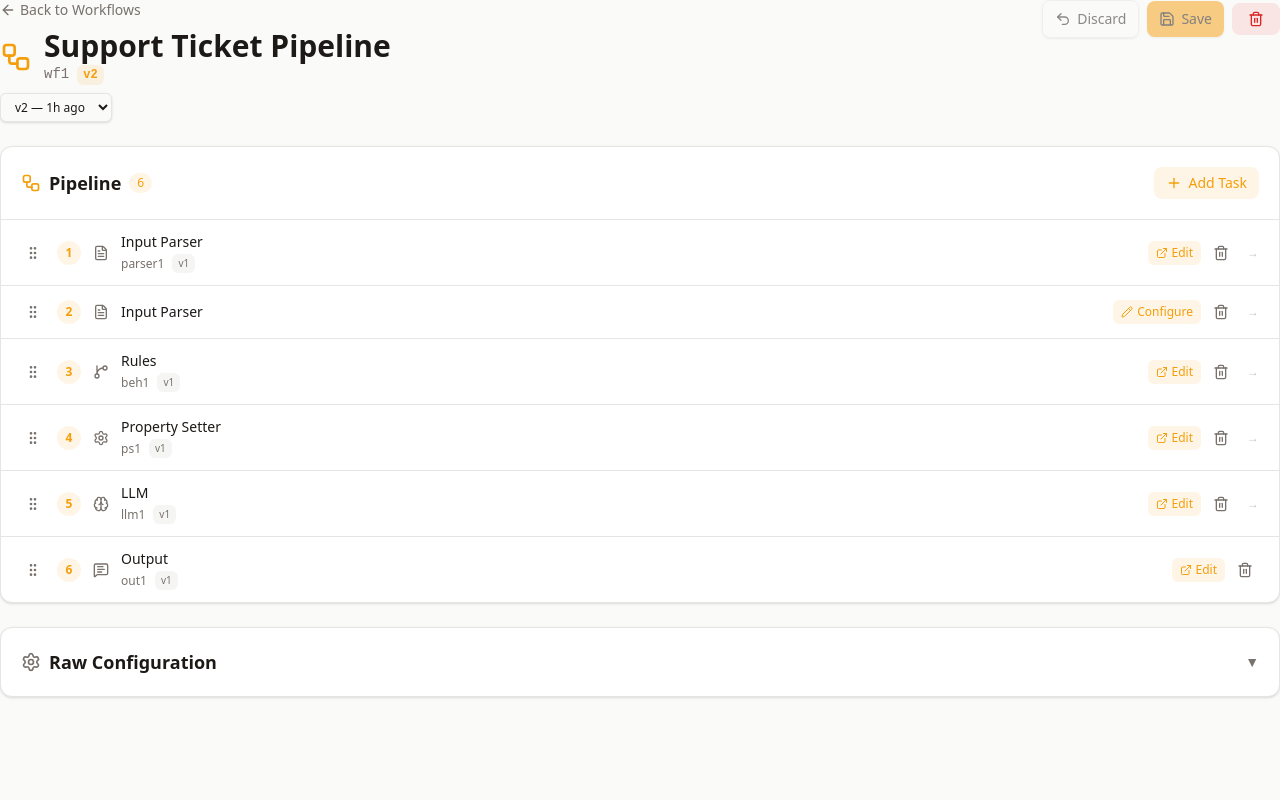
Test: WorkflowDetailPage › opens delete confirmation dialog
Click the button with test id "delete-wf-btn" at (1256, 19), box left=1232, top=3, right=1279, bottom=35
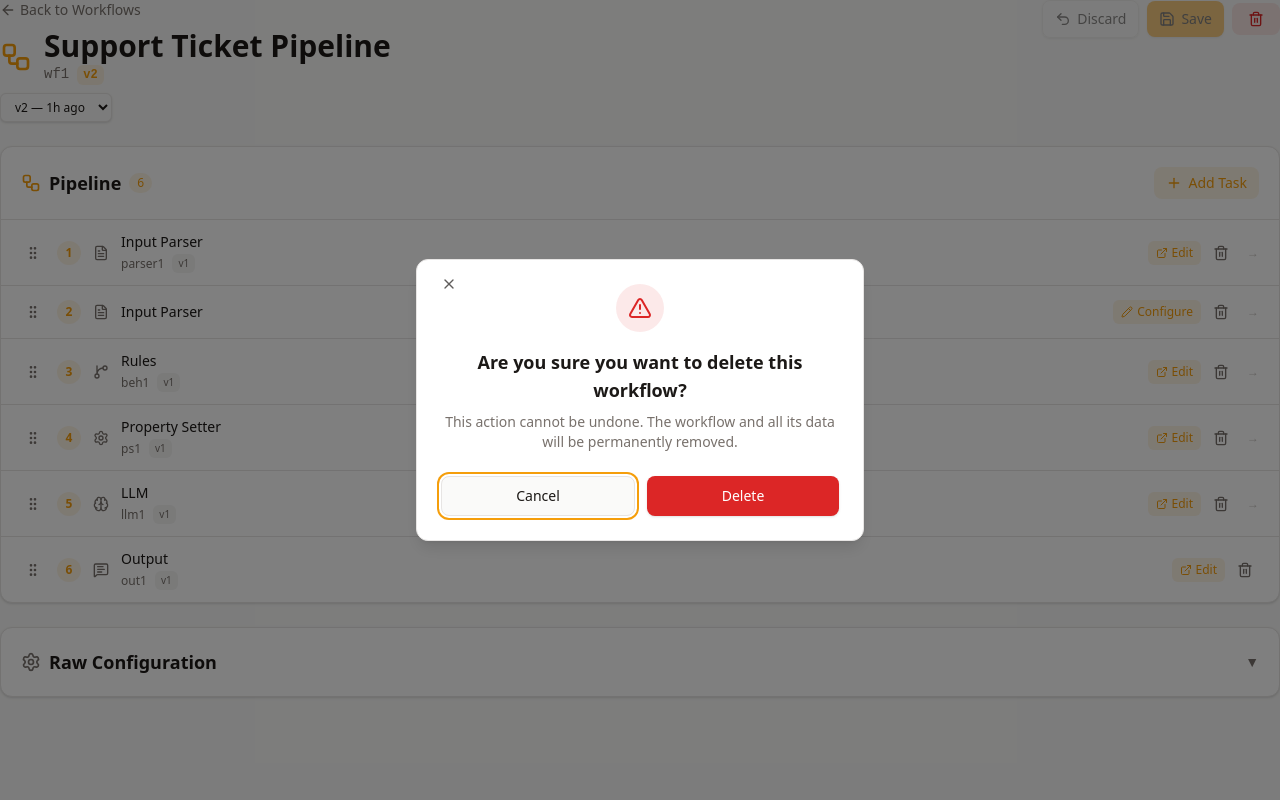
Now the text "This action cannot be undone" is shown, box left=445, top=412, right=835, bottom=451
